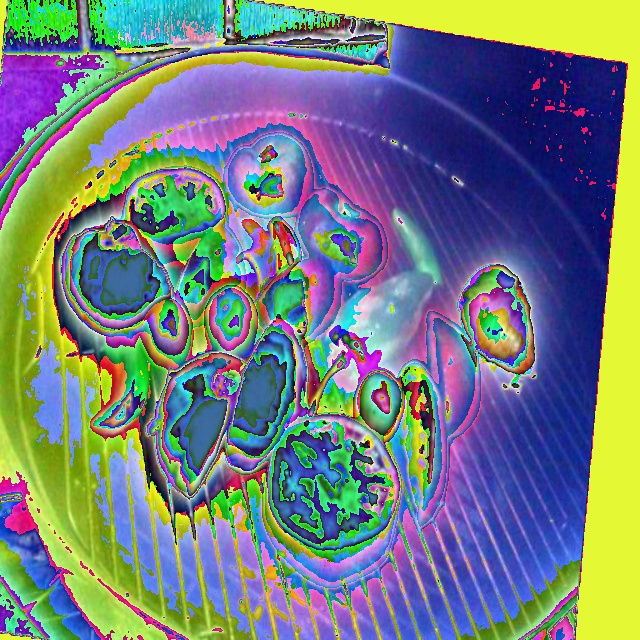background: (58, 127, 537, 589)
